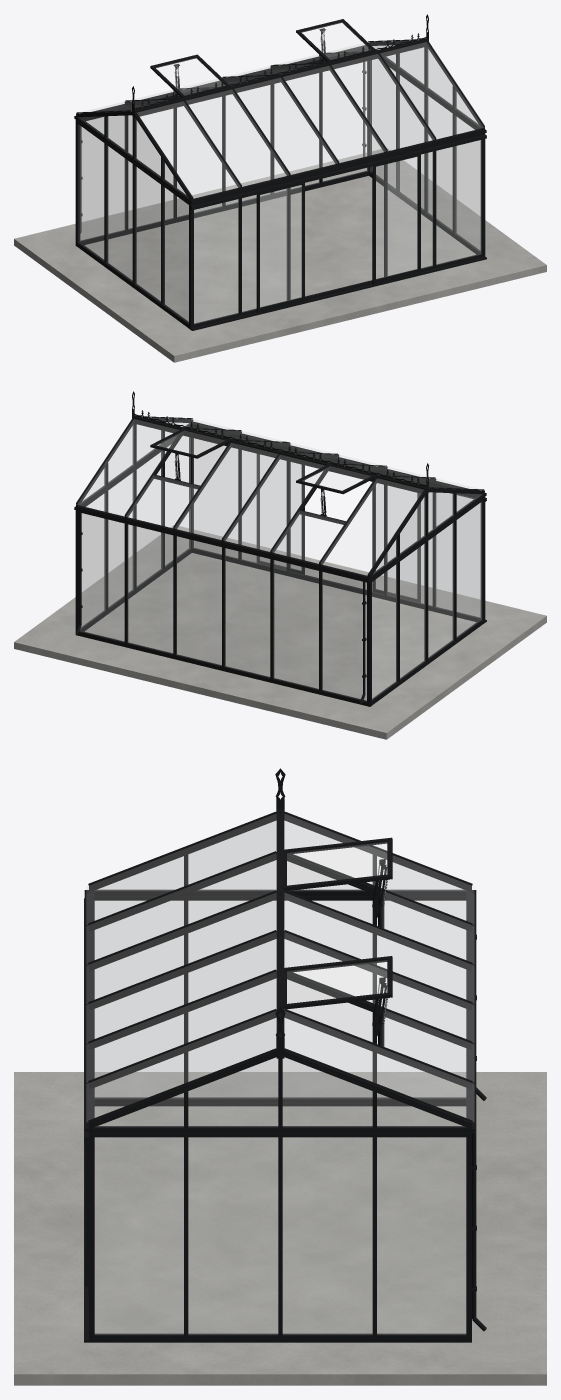
Rendered from sg-rect-10-2-15-1-decor.glb.
3 renders of one model, top to bottom at view 1: azimuth 30°, elevation 25°; view 2: azimuth 150°, elevation 25°; view 3: azimuth 270°, elevation 25°, orthographic. The views are drawn at different scales.
Visible parts, largest first — view 1: scandiglas-rect-10-2-15-1-decor; view 2: scandiglas-rect-10-2-15-1-decor; view 3: scandiglas-rect-10-2-15-1-decor.
Boxes of the visible parts, left/top/right/bottom form: scandiglas-rect-10-2-15-1-decor: left=14, top=14, right=546, bottom=362; scandiglas-rect-10-2-15-1-decor: left=14, top=391, right=546, bottom=739; scandiglas-rect-10-2-15-1-decor: left=14, top=768, right=546, bottom=1385.
Size of the model in its own units: 5.88 by 3.14 by 4.38.
Materials: 5 (1 with a texture image).
